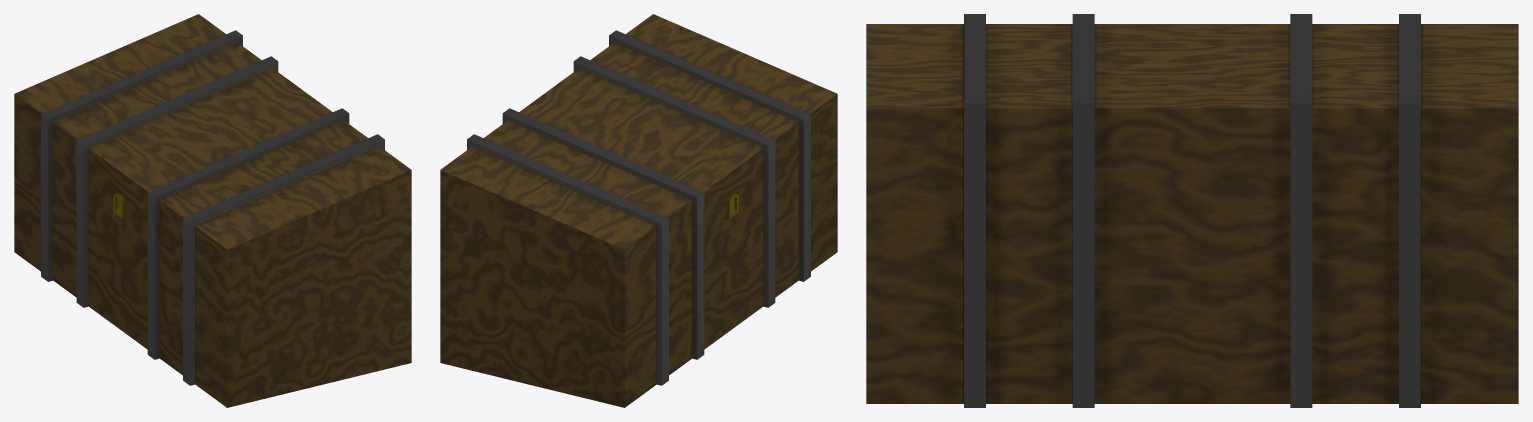
File: Chest.glb
3 views of the same model, side by side, from view 1: azimuth 30°, elevation 25°; view 2: azimuth 150°, elevation 25°; view 3: azimuth 270°, elevation 25° (orthographic). The views are drawn at different scales.
Parts seen in each view (by area): view 1: Base, Top, Steel; view 2: Base, Top, Steel; view 3: Base, Top, Steel.
Part boxes in pixels (box(x1,y1,x2,y2)): Base: box(14, 94, 411, 407); Top: box(14, 14, 411, 249); Steel: box(41, 30, 384, 385); Base: box(440, 94, 837, 407); Top: box(440, 14, 837, 249); Steel: box(467, 30, 810, 385); Base: box(866, 108, 1518, 403); Top: box(866, 24, 1518, 108); Steel: box(964, 14, 1420, 407).
Size of the model in its own units: 2.11 by 2.06 by 4.
4 materials, 4 textured.
